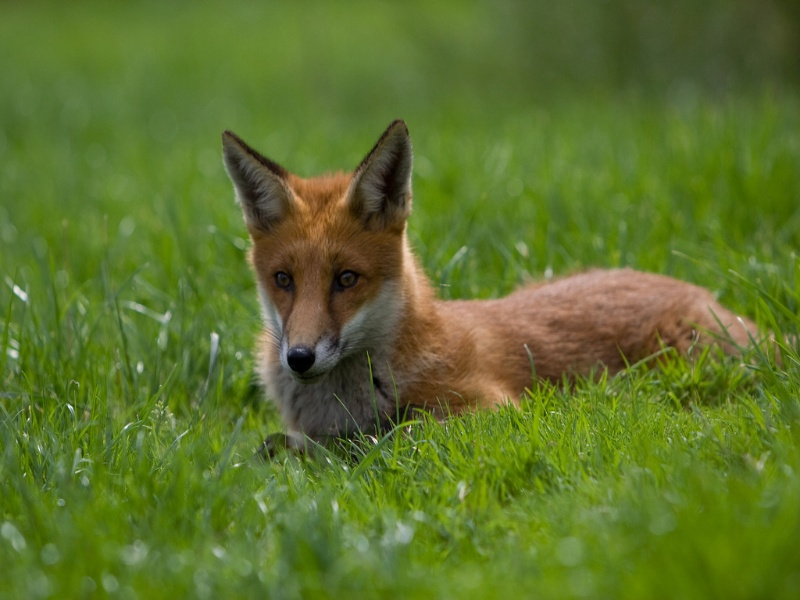fox: (214, 117, 782, 473)
